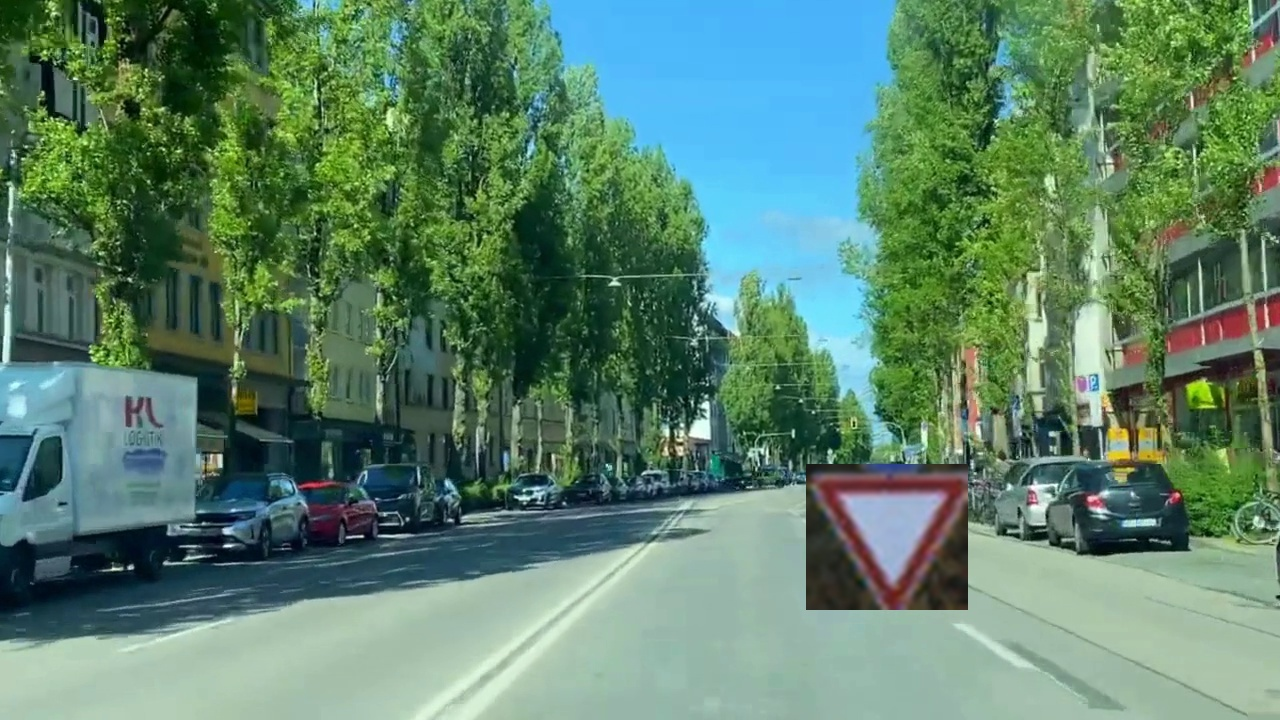Yield: (806, 464, 968, 610)
